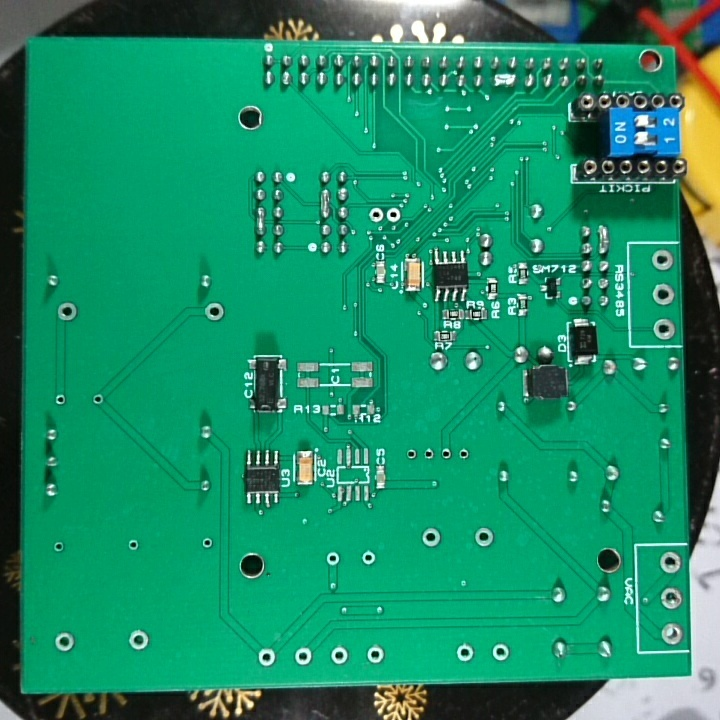F: (657, 586, 685, 614), (651, 315, 678, 343), (648, 248, 677, 274), (123, 628, 153, 653), (658, 620, 685, 647), (656, 550, 683, 576), (651, 280, 677, 306), (419, 526, 445, 551), (52, 630, 78, 655), (202, 298, 227, 324), (54, 299, 78, 326), (327, 644, 352, 668), (453, 643, 479, 666), (291, 646, 317, 669), (472, 526, 496, 549), (257, 646, 279, 670), (363, 644, 388, 665), (490, 642, 512, 665), (322, 549, 343, 570), (367, 204, 385, 227), (384, 203, 402, 226), (359, 548, 378, 568), (51, 392, 68, 409), (199, 535, 214, 554), (90, 390, 105, 409), (125, 538, 142, 554), (439, 445, 454, 463), (404, 447, 419, 463), (457, 447, 471, 464), (51, 540, 66, 555), (422, 446, 436, 462)
P: (594, 221, 612, 255), (317, 185, 332, 221), (252, 206, 269, 237), (491, 72, 518, 89)
